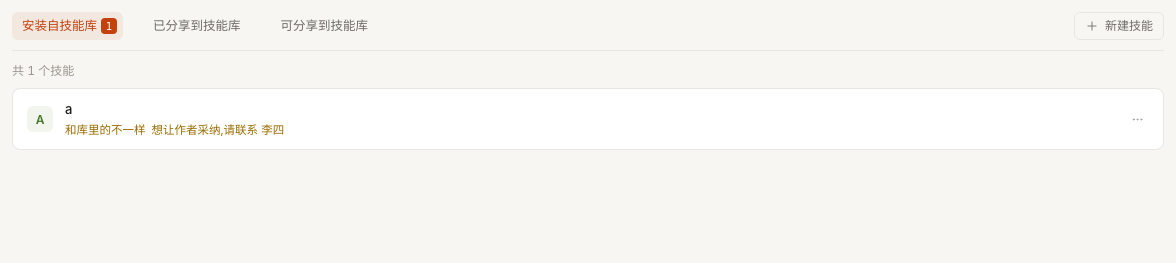
Scenario: 三区排列与判定表接线 › 有作者时提示联系谁,「…」里给「改用库里的版本」这条出路
The width and height of the screenshot is (1176, 263).
Check: the text "想让作者采纳,请联系 李四" is shown, box [152,123,284,137]
Step 1. Click the button named "更多" → click(1137, 119), box [1125,107,1149,131]
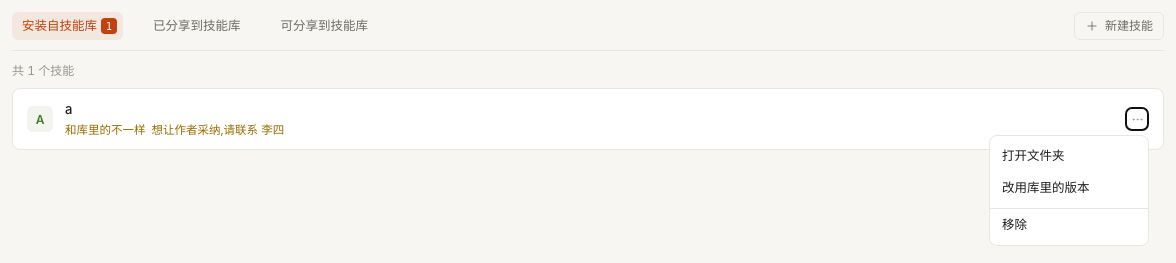
Check: the menu item "改用库里的版本" is shown, box [990,172,1148,204]
